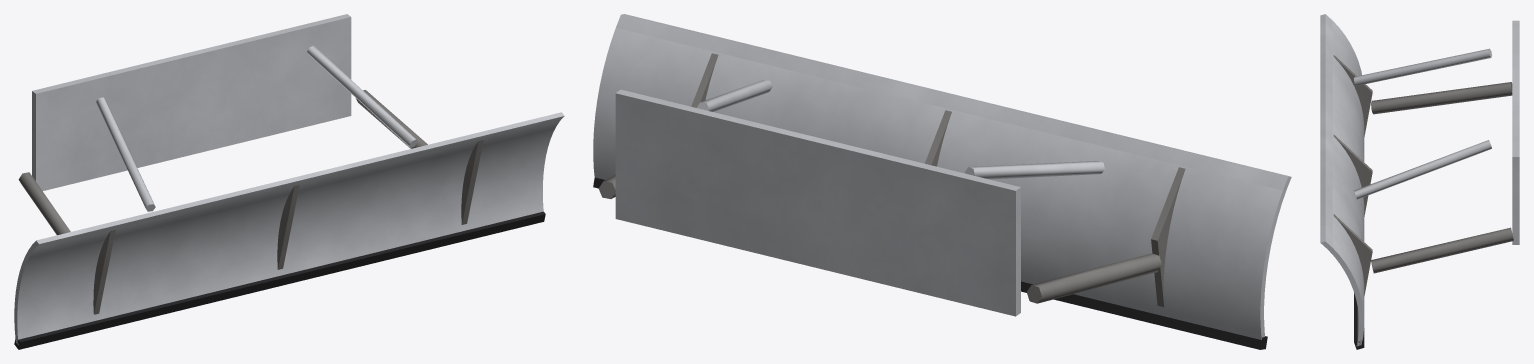
Rendered from rover32_dozer_scoop_l_lowered.glb.
3 renders of one model, left to right at view 1: azimuth 30°, elevation 25°; view 2: azimuth 150°, elevation 25°; view 3: azimuth 270°, elevation 25°, orthographic. The views are drawn at different scales.
Visible parts, largest first — view 1: blade, mount_plate, blade_edge, arm_rams, blade_ribs, arm_push; view 2: blade, mount_plate, arm_push, arm_rams, blade_ribs, blade_edge; view 3: blade, arm_push, arm_rams, blade_ribs, mount_plate, blade_edge.
Boxes of the visible parts, x1,y1,x2,y2 form: blade: [14, 112, 564, 345]; mount_plate: [32, 14, 351, 190]; blade_edge: [14, 211, 545, 349]; arm_rams: [96, 45, 417, 211]; blade_ribs: [93, 140, 483, 314]; arm_push: [18, 90, 427, 235]; blade: [593, 14, 1291, 339]; mount_plate: [615, 89, 1020, 316]; arm_push: [598, 175, 1161, 303]; arm_rams: [696, 80, 1104, 179]; blade_ribs: [691, 53, 1185, 306]; blade_edge: [593, 177, 1267, 349]; blade: [1320, 14, 1364, 346]; arm_push: [1371, 82, 1513, 273]; arm_rams: [1354, 48, 1491, 199]; blade_ribs: [1333, 55, 1372, 295]; mount_plate: [1512, 20, 1519, 244]; blade_edge: [1354, 293, 1364, 349].
Size of the model in its own units: 3 by 0.9064 by 1.11.
3 materials, 2 textured.
